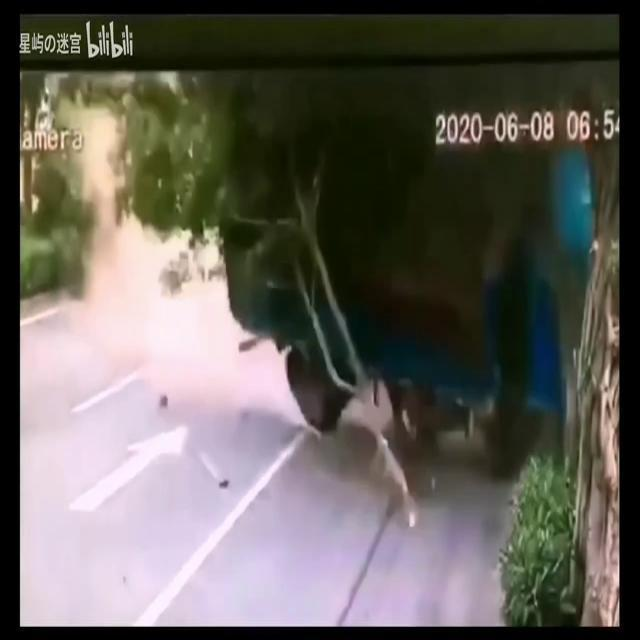accident: (219, 71, 616, 528)
